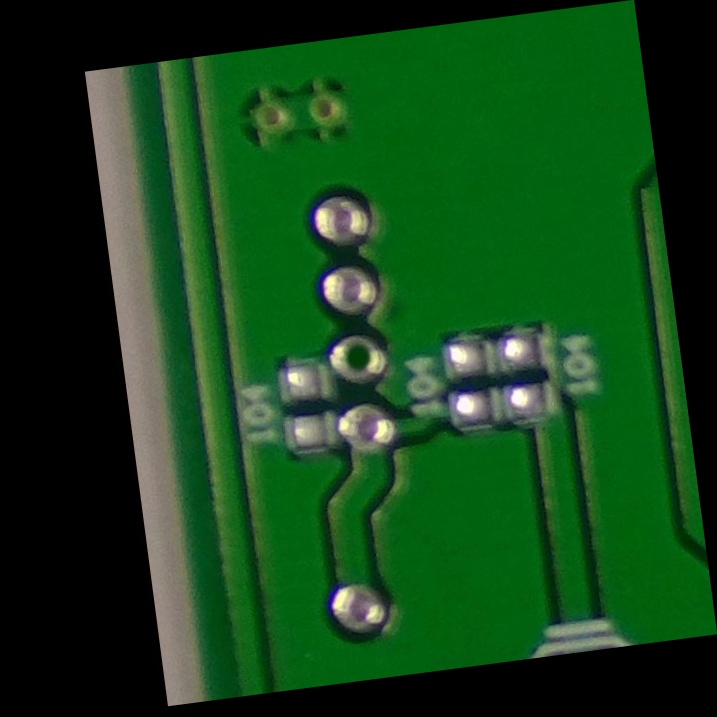missing_hole: (323, 326, 394, 391)
